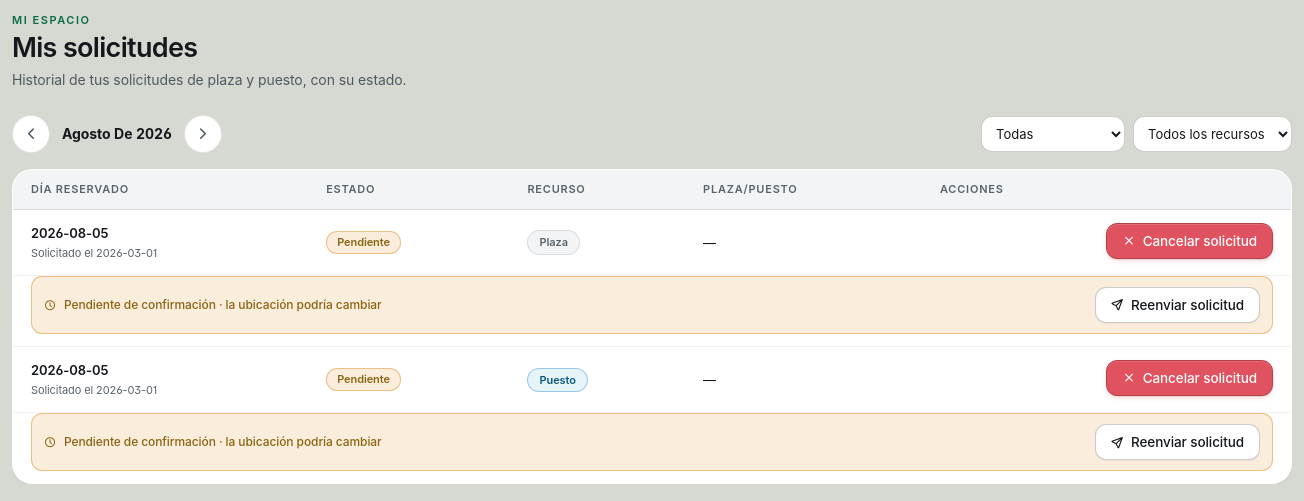
Test: MyRequestsPage (EMPLOYEE) › should_filter_rows_by_resource_when_resource_filter_changes
The image size is (1304, 501).
Expected: the text "Puesto" is shown, [527,368,588,392]
Expected: the text "Plaza" is shown once, [527,230,580,255]
Filtra por Puesto → desaparecen los pills de plaza.
Select "Puesto" in the 2nd dropdown at (1212, 134), box [1133,116,1292,152]
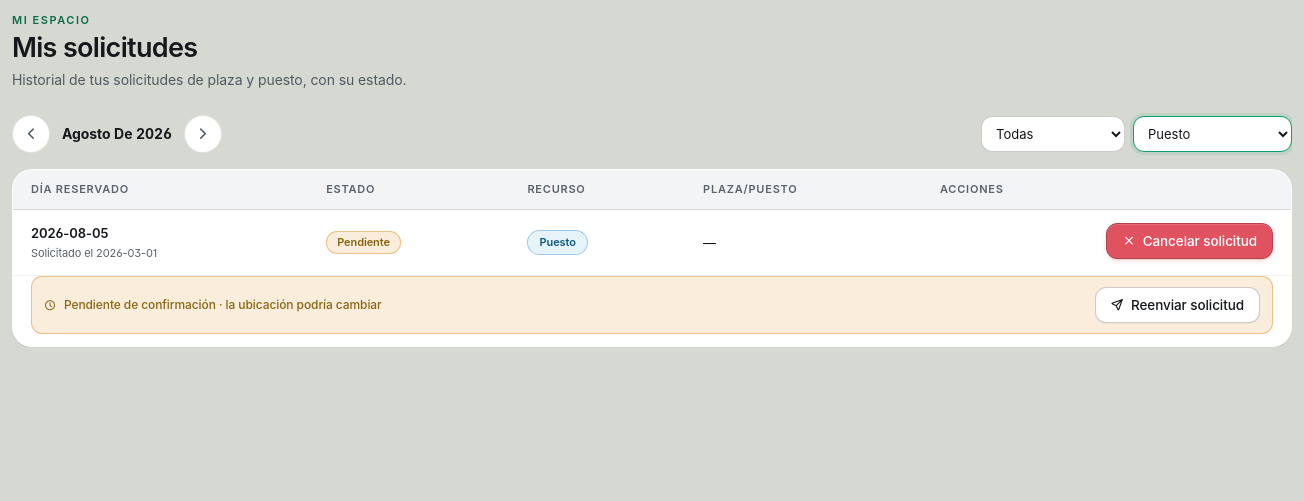
Expected: the text "Puesto" is shown once, [527,230,588,255]
